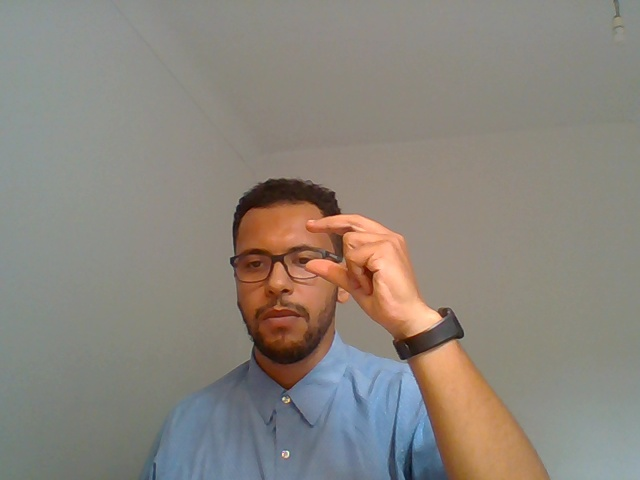no: (298, 200, 498, 412)
